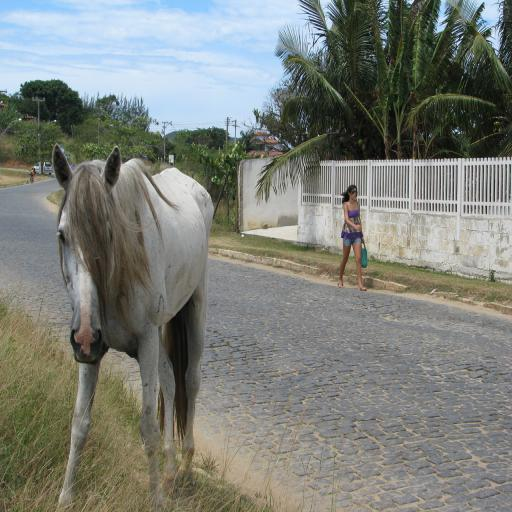horse: (48, 144, 212, 510)
